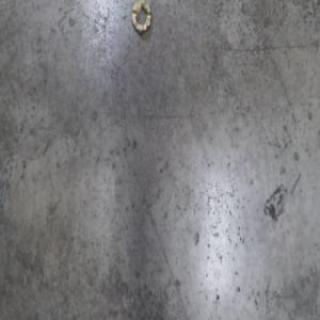Nuttrack_idkeyframe: (129, 0, 151, 37)
